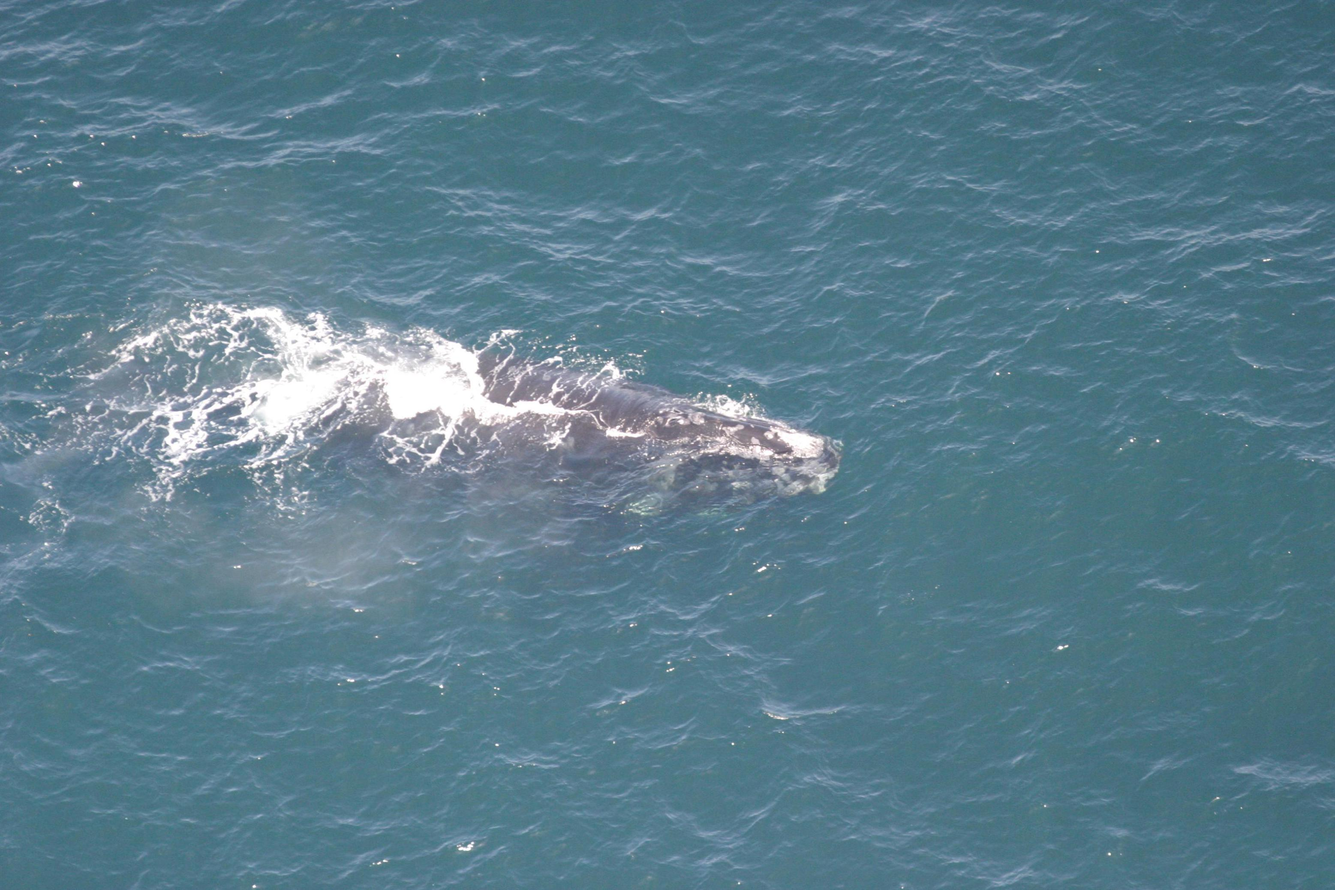whale: (226, 332, 847, 547)
